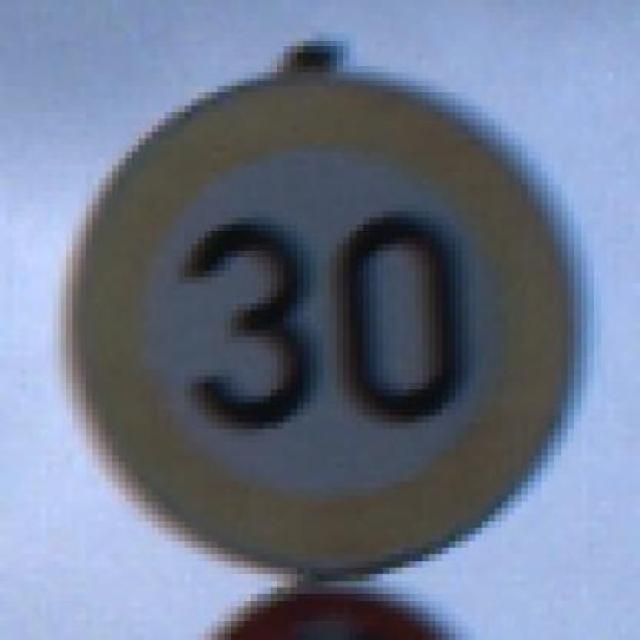Speed Limit 30 KMPh: (46, 52, 600, 568)
